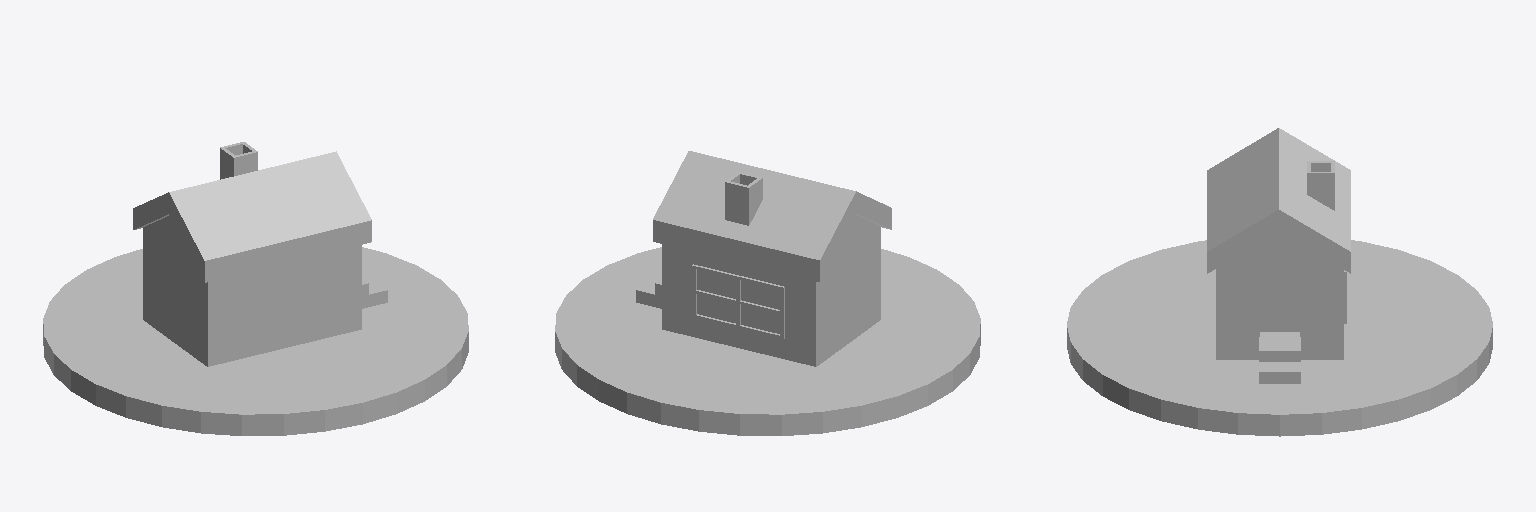
File: HOUSE_gazou1.obj
3 views of the same model, side by side, from view 1: azimuth 30°, elevation 25°; view 2: azimuth 150°, elevation 25°; view 3: azimuth 270°, elevation 25° (orthographic).
Visible parts, largest first — view 1: 円, 立方体, 立方体.001, 立方体.002; view 2: 円, 立方体, 立方体.001, 立方体.002; view 3: 円, 立方体.001, 立方体, 立方体.003, 立方体.002, 立方体.004.
Boxes of the visible parts, <box> form: 円: <box>43,247,468,435</box>; 立方体: <box>143,215,361,366</box>; 立方体.001: <box>133,151,371,282</box>; 立方体.002: <box>220,142,257,179</box>; 円: <box>555,247,980,435</box>; 立方体: <box>662,215,880,366</box>; 立方体.001: <box>653,151,891,281</box>; 立方体.002: <box>725,172,762,225</box>; 円: <box>1067,240,1492,436</box>; 立方体.001: <box>1207,128,1350,273</box>; 立方体: <box>1216,232,1346,359</box>; 立方体.003: <box>1259,333,1300,361</box>; 立方体.002: <box>1307,161,1334,210</box>; 立方体.004: <box>1259,362,1300,383</box>.
Size of the model in its own units: 6.66 by 3.11 by 6.66.